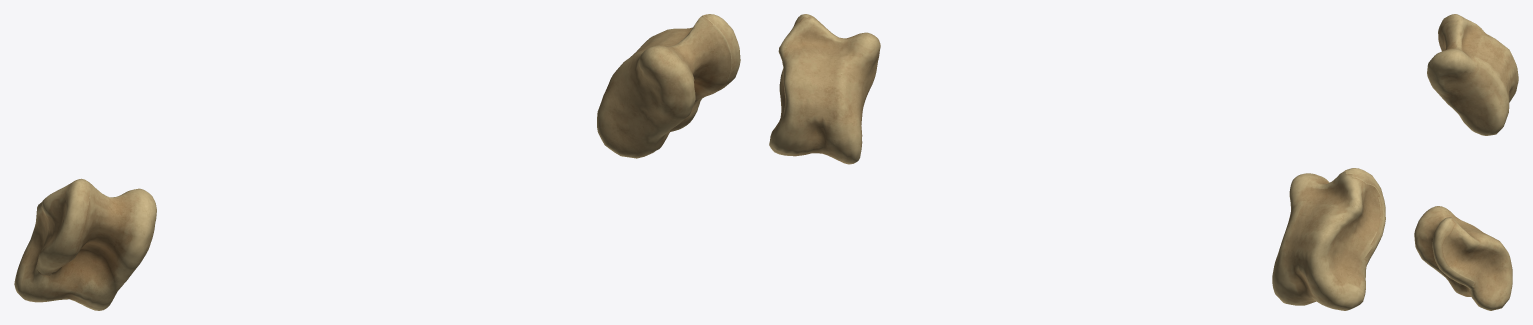
Rendered from Talus.glb.
The picture shows the model from 3 angles, left to right: view 1: azimuth 30°, elevation 25°; view 2: azimuth 150°, elevation 25°; view 3: azimuth 270°, elevation 25°; orthographic projection. The views are drawn at different scales.
Parts seen in each view (by area): view 1: Group56506.005, Group56506.006, Group56506.007, Group56506.001; view 2: Group56506.005, Group56506.006, Group56506.007; view 3: Group56506.006, Group56506.005, Group56506.001, Group56506.007.
Part boxes in pixels (x1,y1,x2,y2): Group56506.005: (597, 15, 731, 158); Group56506.006: (14, 181, 156, 310); Group56506.007: (37, 178, 89, 275); Group56506.001: (696, 14, 740, 101); Group56506.005: (769, 16, 880, 164); Group56506.006: (1272, 171, 1380, 310); Group56506.007: (1343, 168, 1385, 265); Group56506.006: (1427, 17, 1518, 135); Group56506.005: (1414, 206, 1512, 310); Group56506.001: (1432, 217, 1474, 289); Group56506.007: (1438, 14, 1462, 50).
Size of the model in its own units: 329 by 76.6 by 61.38.
4 materials, 4 textured.
